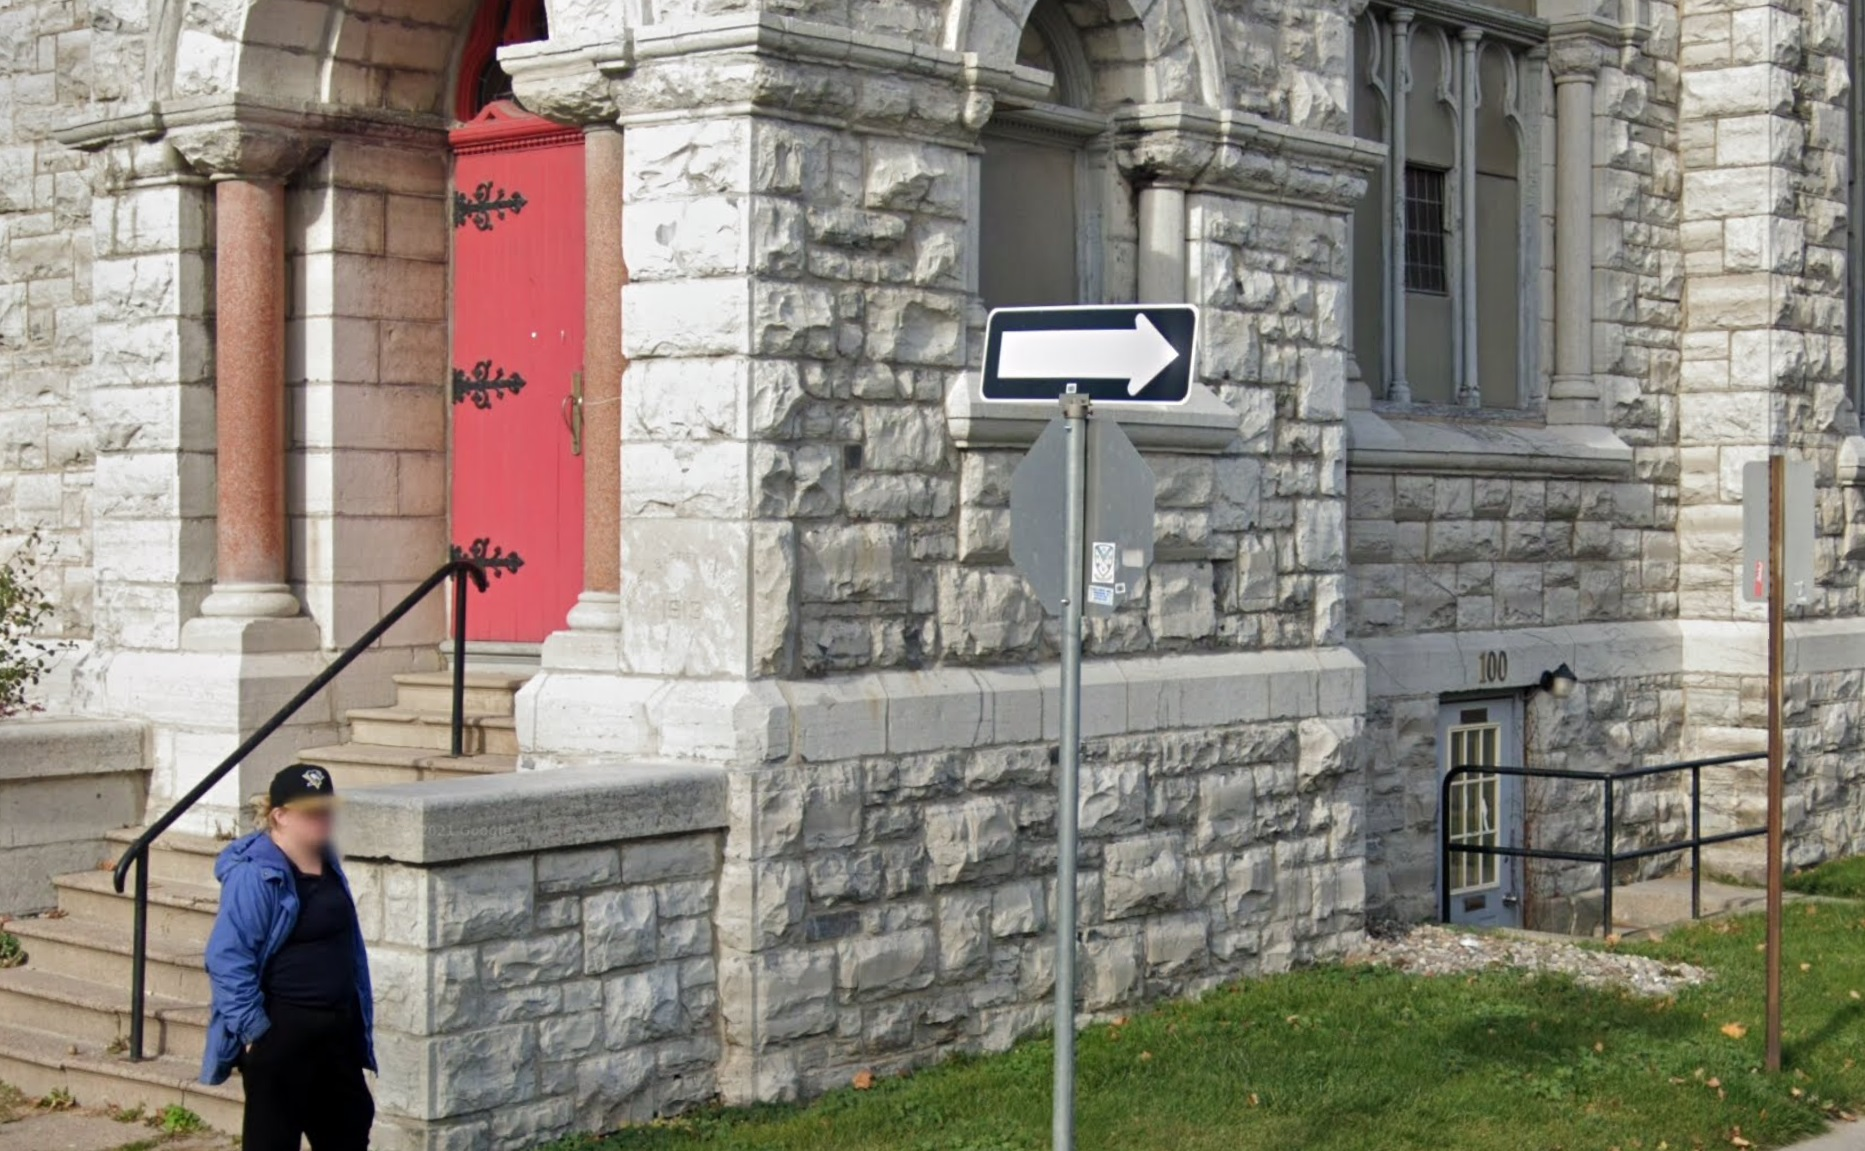sign_oneway_right: (971, 302, 1199, 405)
